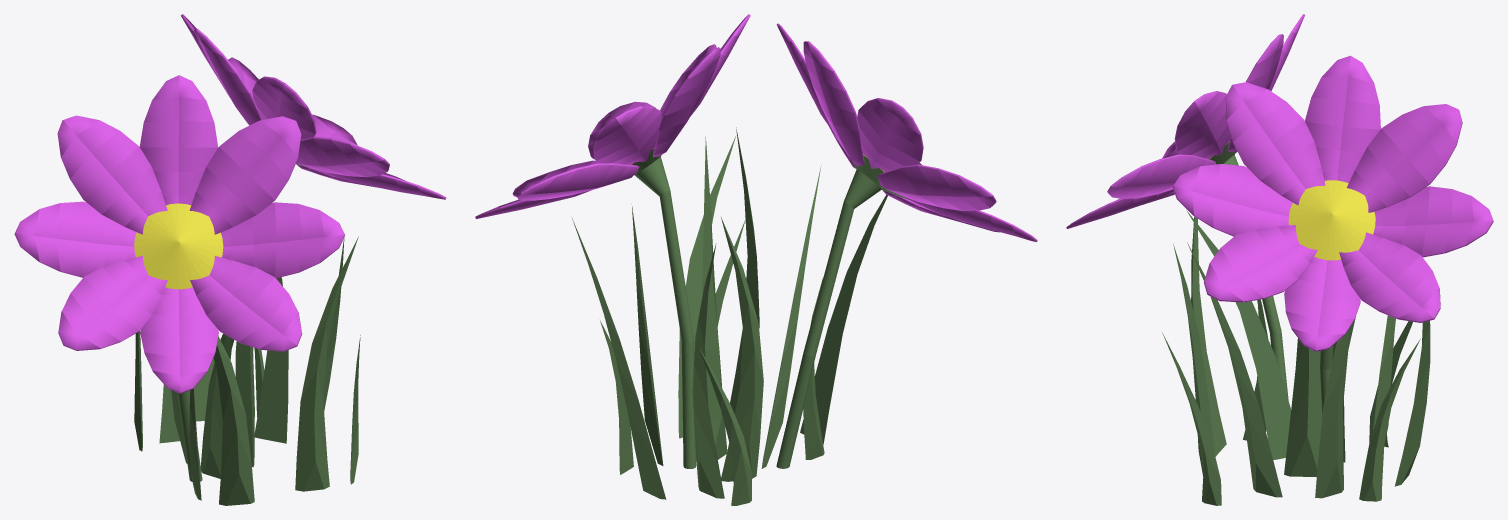
The model's file is Flower_P.fbx.
The picture shows the model from 3 angles, left to right: view 1: azimuth 30°, elevation 25°; view 2: azimuth 150°, elevation 25°; view 3: azimuth 270°, elevation 25°; orthographic projection. The views are drawn at different scales.
Parts seen in each view (by area): view 1: Flower_P_LOD_0; view 2: Flower_P_LOD_0; view 3: Flower_P_LOD_0.
Part boxes in pixels (box(x1,y1,x2,y2)): Flower_P_LOD_0: box(14, 14, 446, 505); Flower_P_LOD_0: box(475, 14, 1037, 505); Flower_P_LOD_0: box(1066, 14, 1493, 505).
Size of what is drawn, in the model's own units: 44.79 by 41.03 by 38.89.
